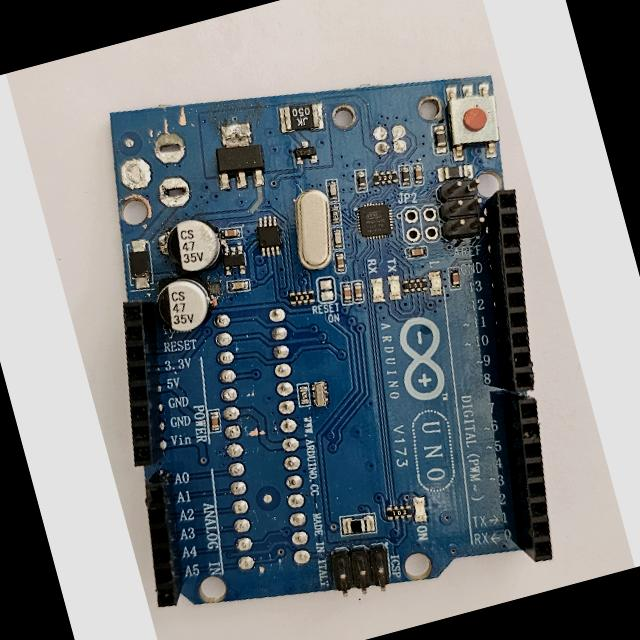missing_atmega: (211, 302, 318, 576)
missing_eps: (127, 103, 205, 219)
missing_usb: (321, 81, 429, 165)
